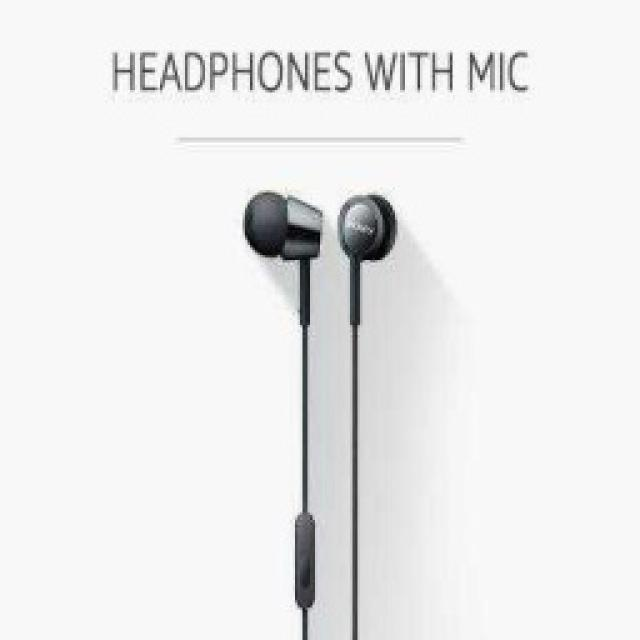headphones: (240, 188, 398, 638)
